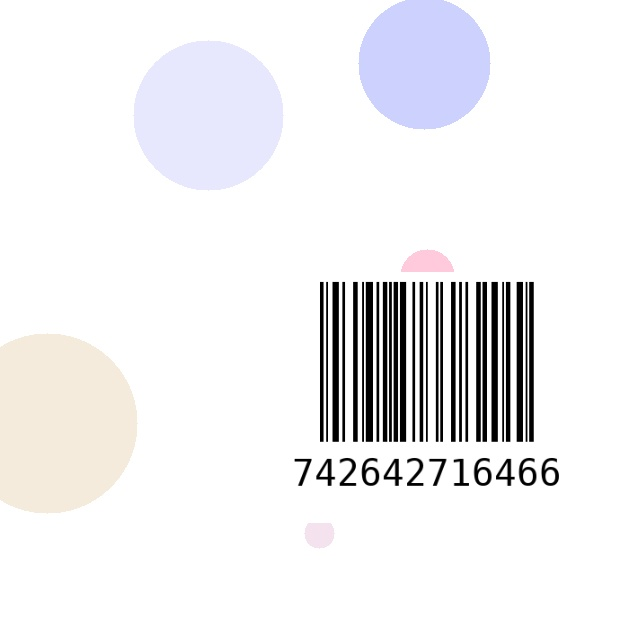barcode: (293, 272, 561, 523)
